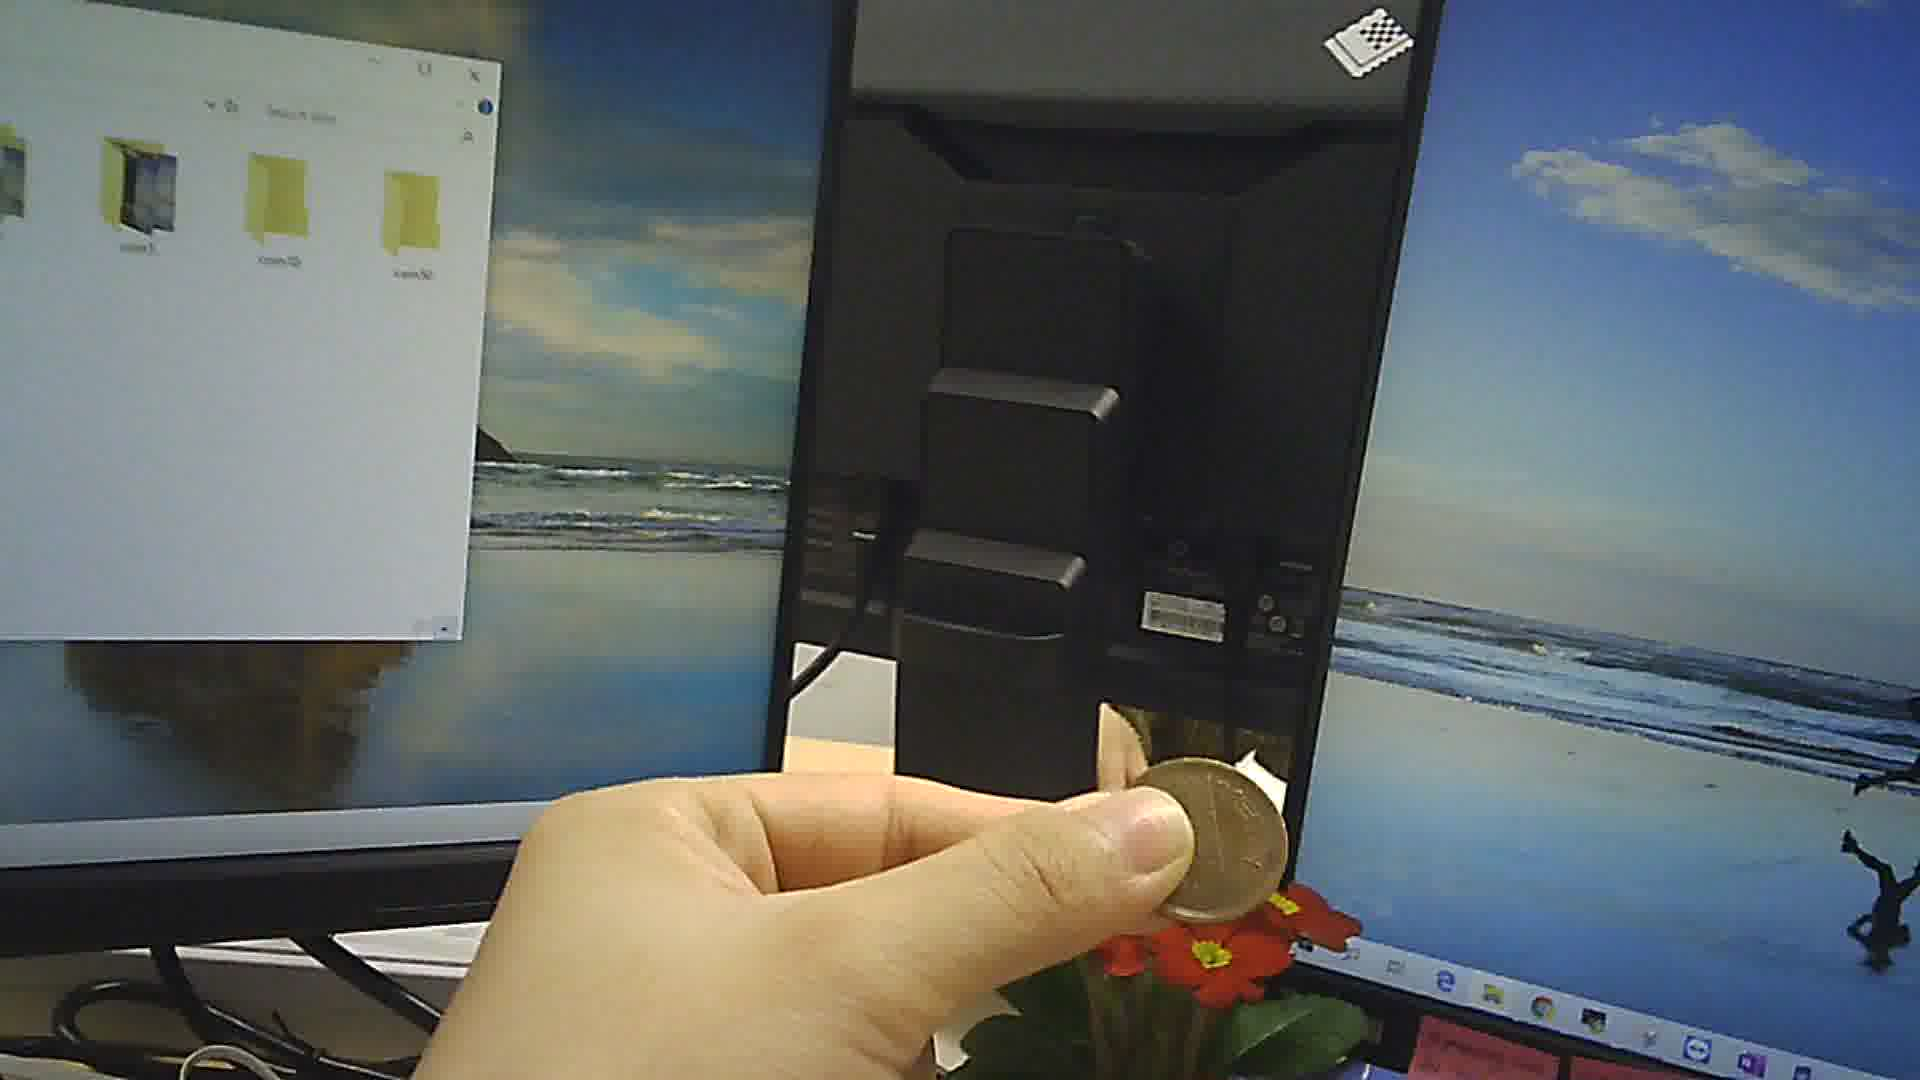10 Yen: (1116, 752, 1296, 928)
